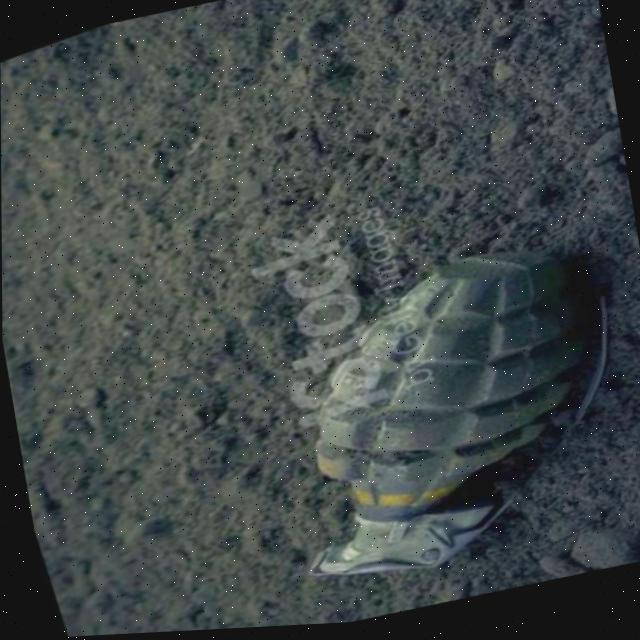grenade: (226, 212, 640, 618)
